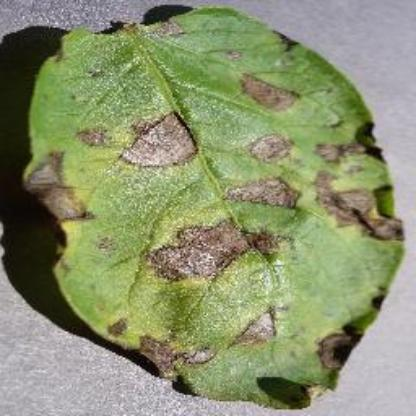Early-Blight: (21, 6, 401, 410)
